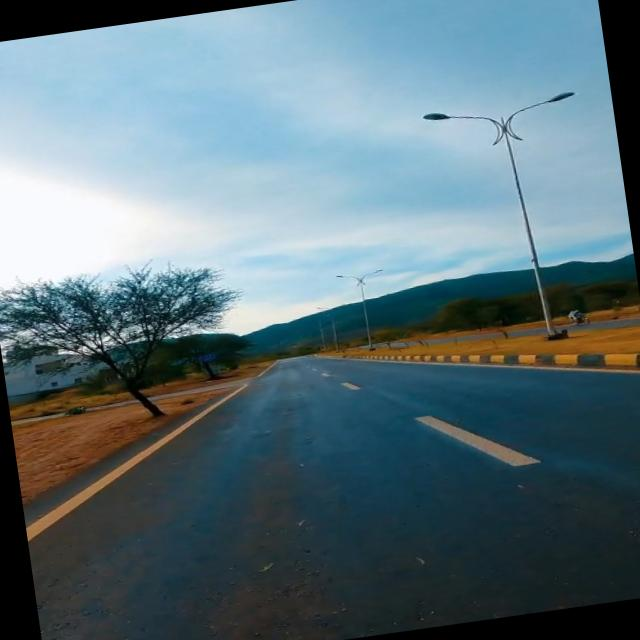asphalt: (28, 357, 640, 640)
